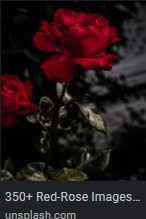RedRose: (25, 10, 120, 82), (0, 76, 41, 129)
